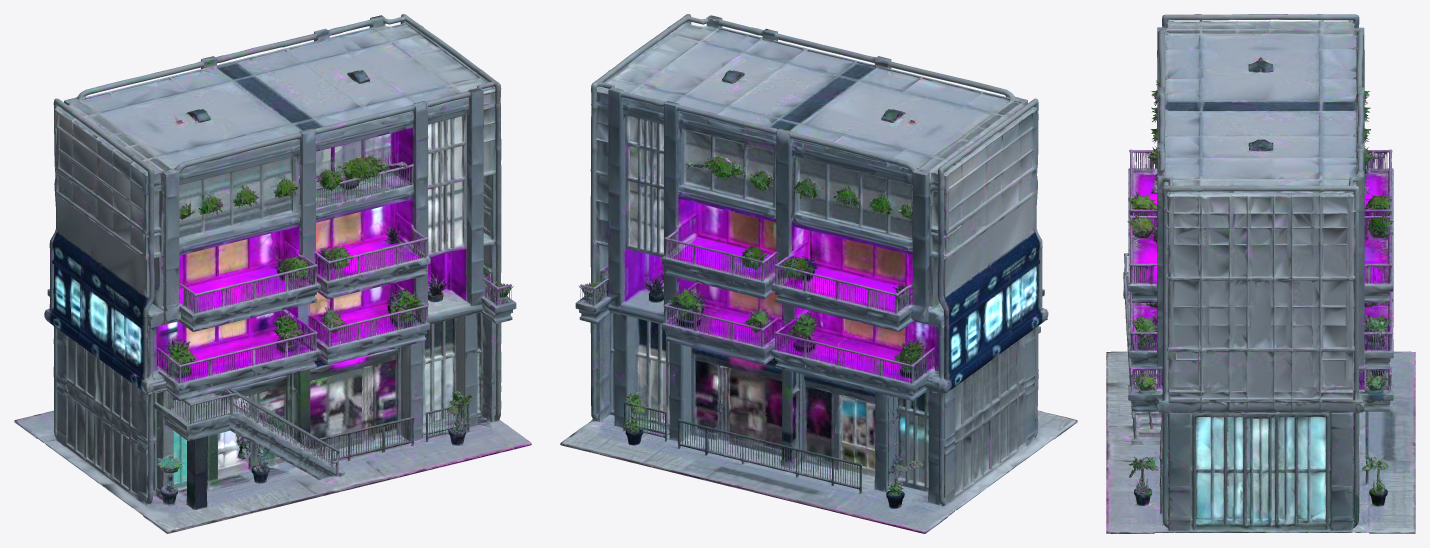
Rendered from storefront_mobile.glb.
3 views of the same model, side by side, from view 1: azimuth 30°, elevation 25°; view 2: azimuth 150°, elevation 25°; view 3: azimuth 270°, elevation 25° (orthographic).
Bounding box in the file's own units: 1.9 × 1.7 × 1.38.
Materials: 1 (1 with a texture image).
